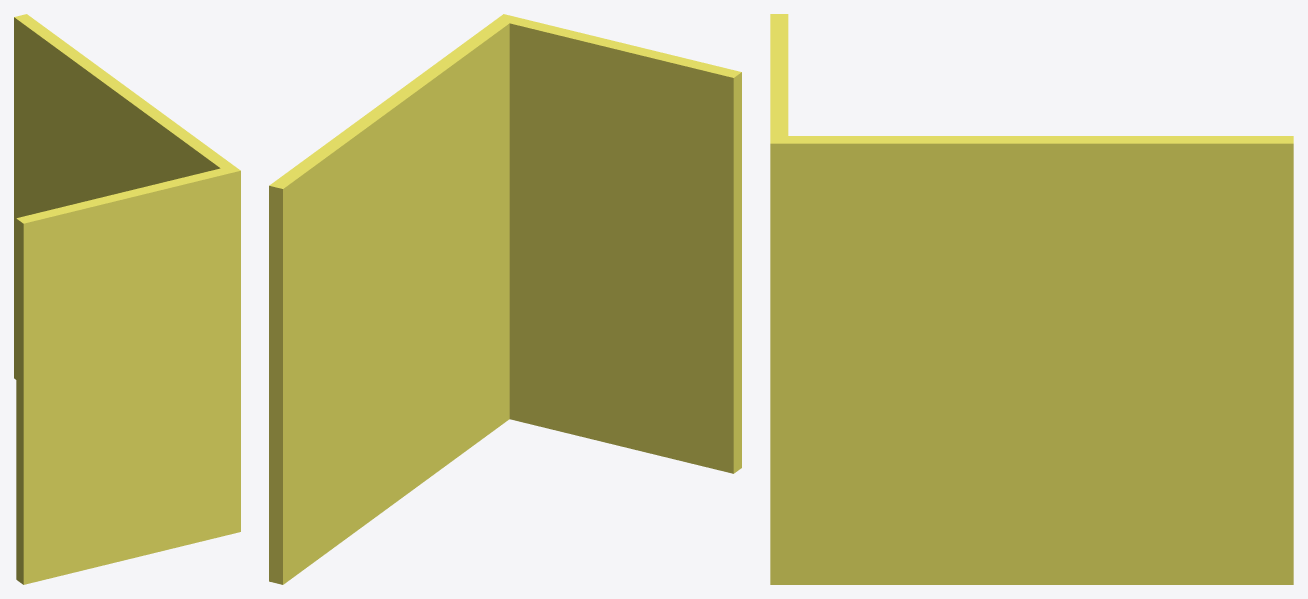
The model's file is neon3.obj.
3 renders of one model, left to right at view 1: azimuth 30°, elevation 25°; view 2: azimuth 150°, elevation 25°; view 3: azimuth 270°, elevation 25°, orthographic. The views are drawn at different scales.
Bounding box in the file's own units: 17 × 27 × 29.
Materials: 1 (1 with a texture image).
